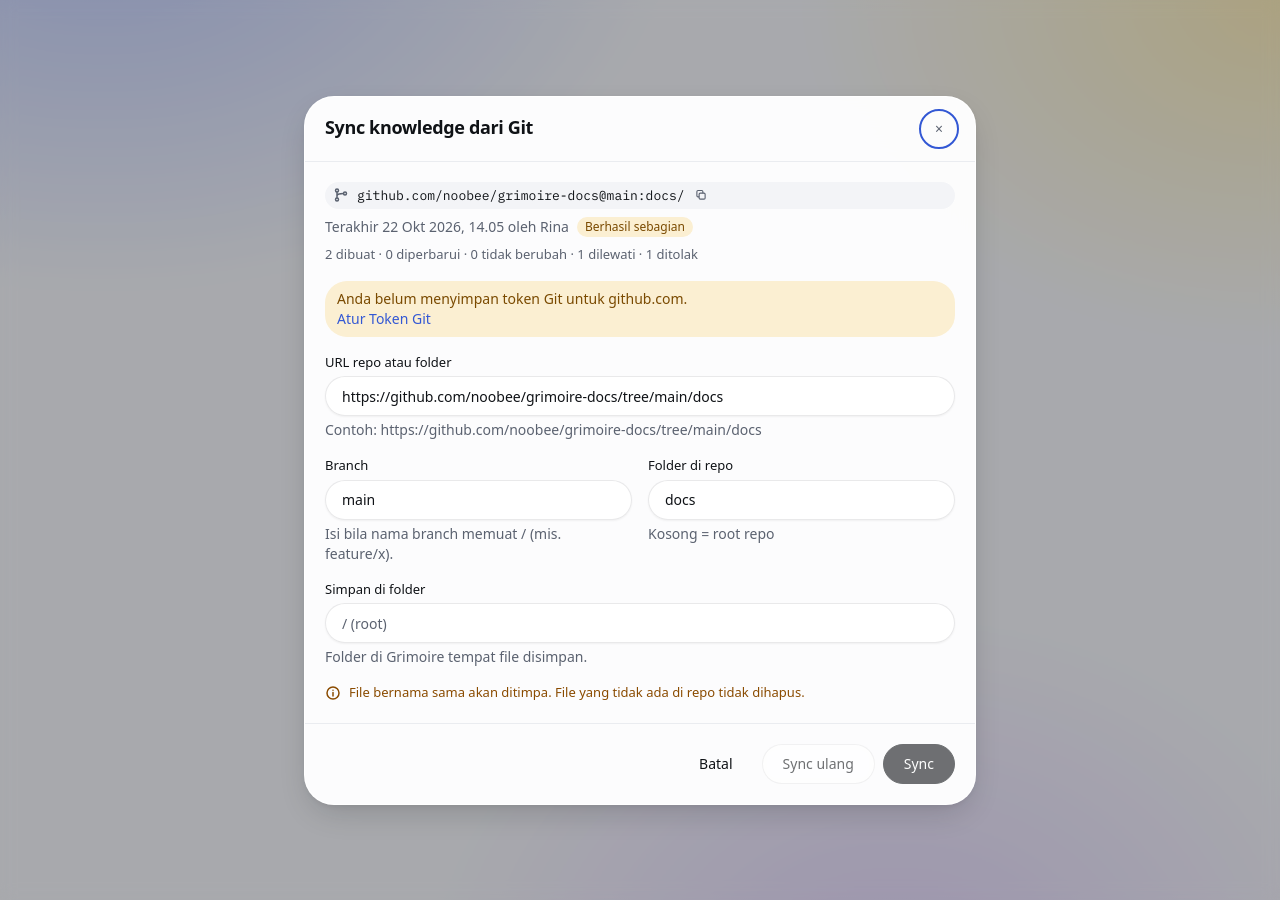
GitSyncDialog › config + no credential + same host: Sync and Sync ulang locked, notice shown; another host unlocks (F6)
Expected: the text "Anda belum menyimpan token Git untuk github.com." is shown, [337,288,687,308]
Expected: the button "Sync" is disabled, [883,744,955,784]
Clear the field labelled "URL repo atau folder": [640, 396] box [325,376,955,416]
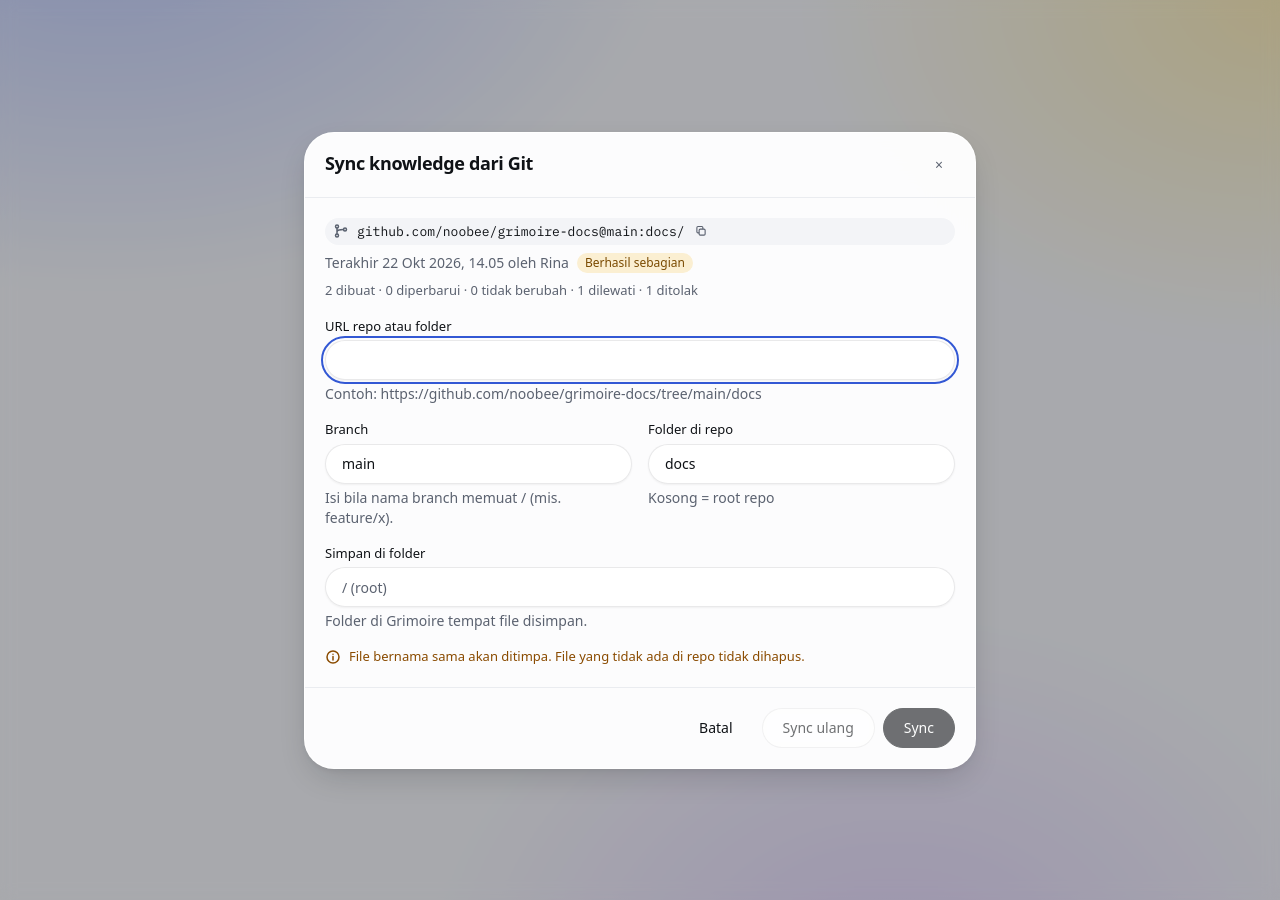
In the field labelled "URL repo atau folder": [640, 360] box [325,340,955,380], type "https://git.noobee.id/grp/repo"
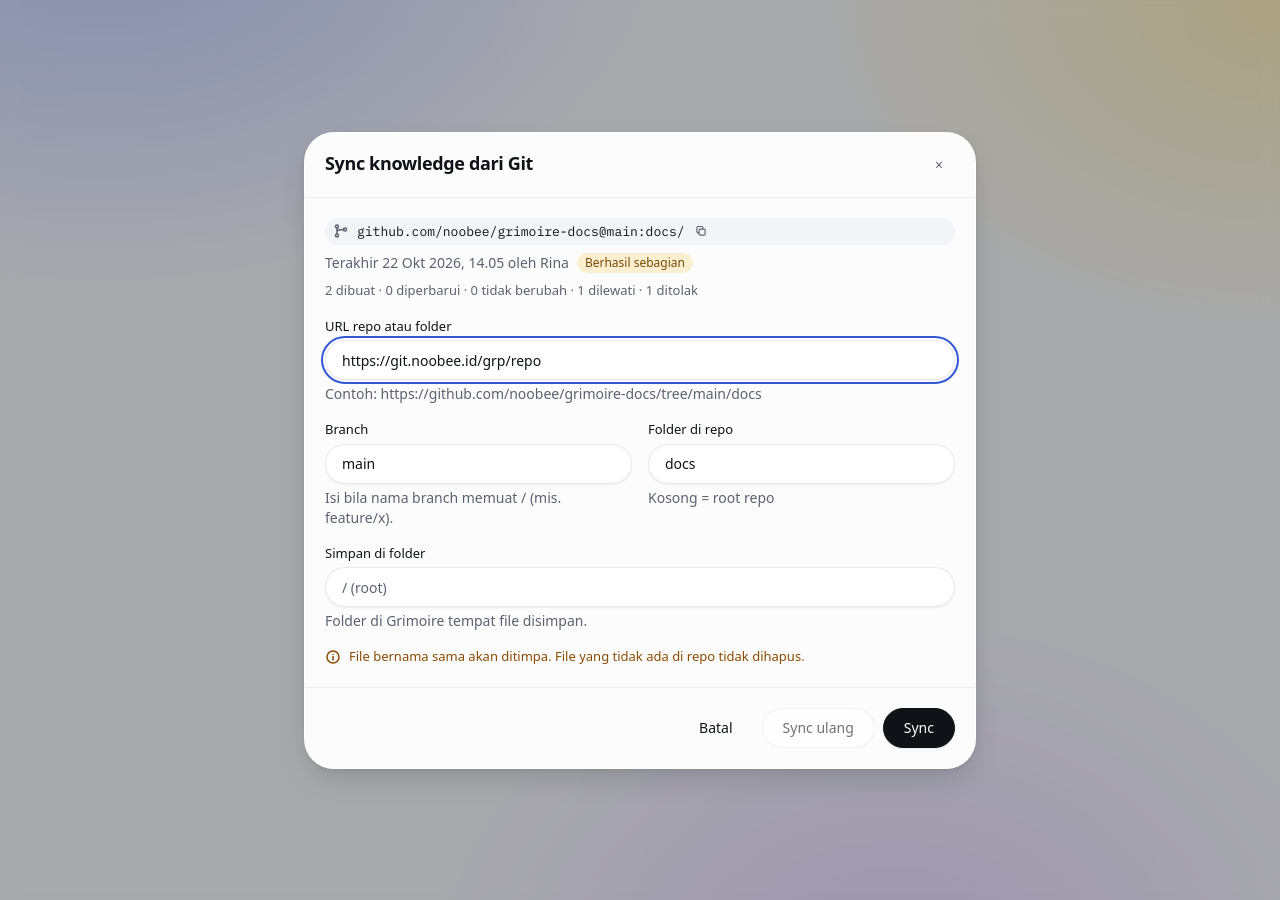
Expected: the button "Sync" is enabled, [883,708,955,748]
